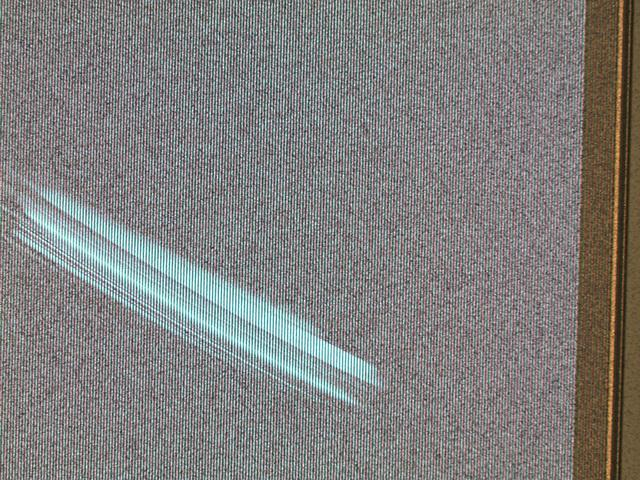SCRATCH: (1, 144, 405, 423)
